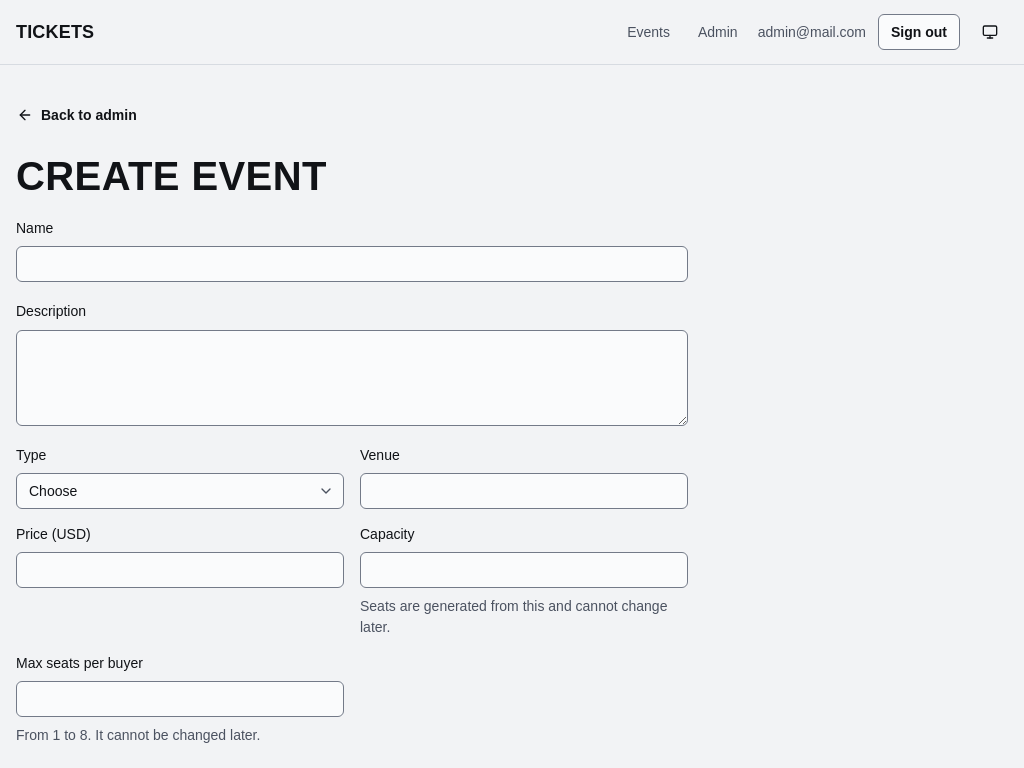
Test: CreateEventPage › shows an error next to each invalid field and sends nothing
This screenshot has width=1024, height=768.
Type "0" into the field labelled "Price (USD)".
click(180, 570); type("0")  # box [16,552,344,588]
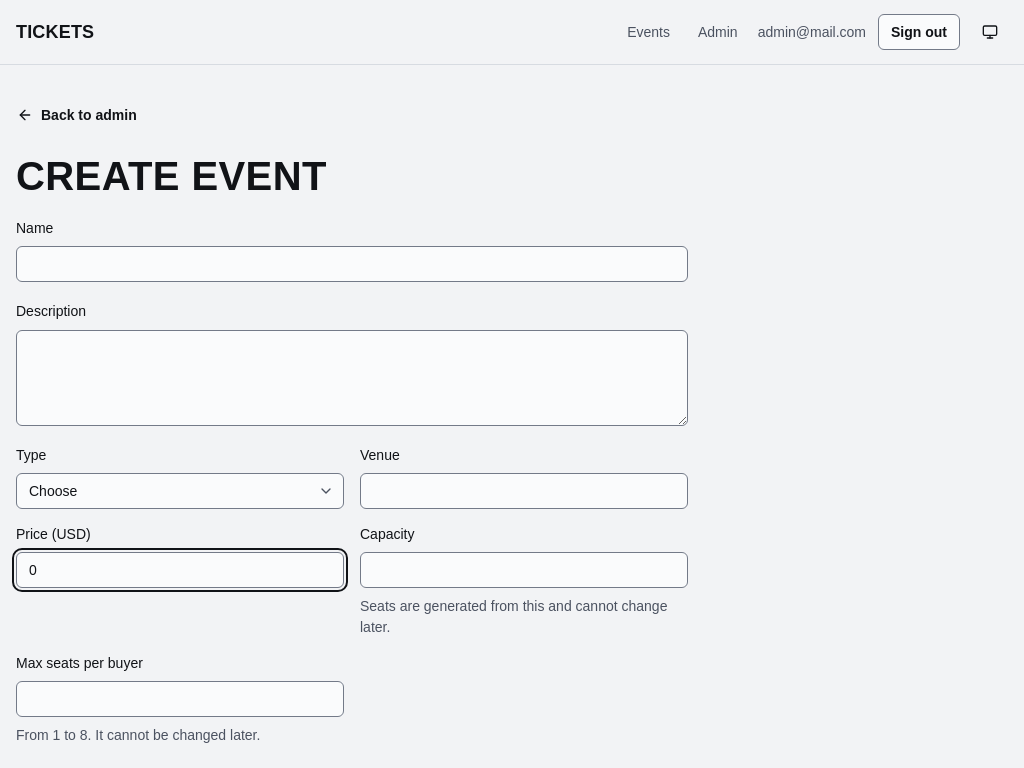
Type "300" into the field labelled "Capacity".
click(524, 570); type("300")  # box [360,552,688,588]
(page scrolled)
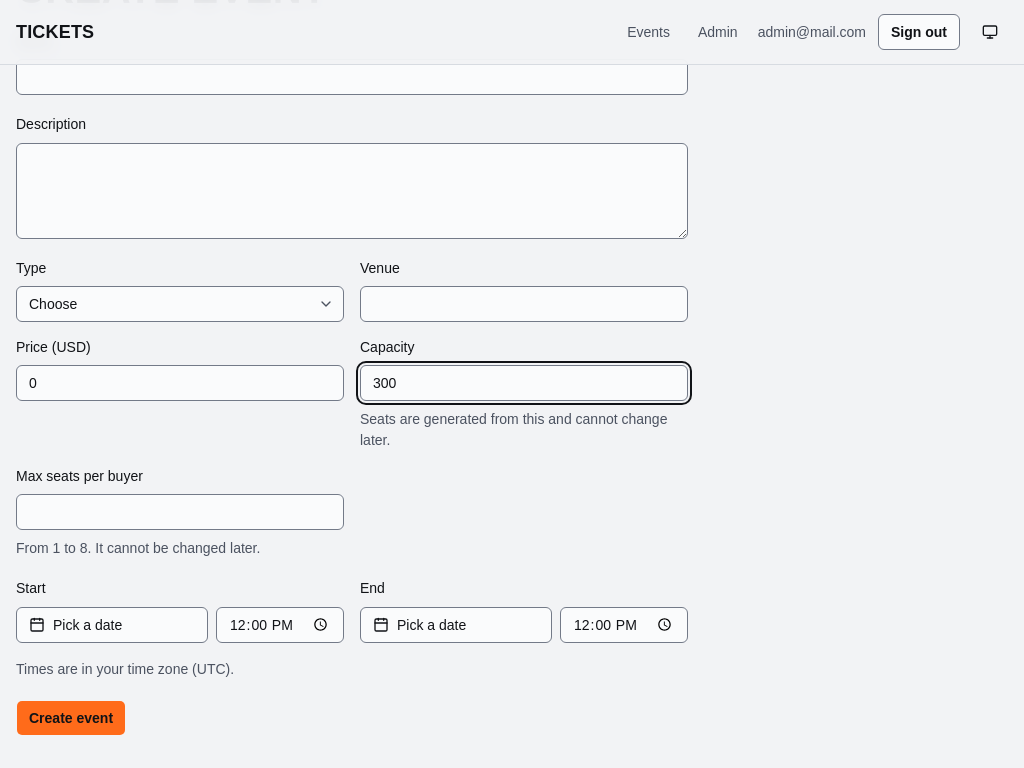
Click the button "Create event".
click(71, 718)  # box [16,700,126,736]
(page scrolled)
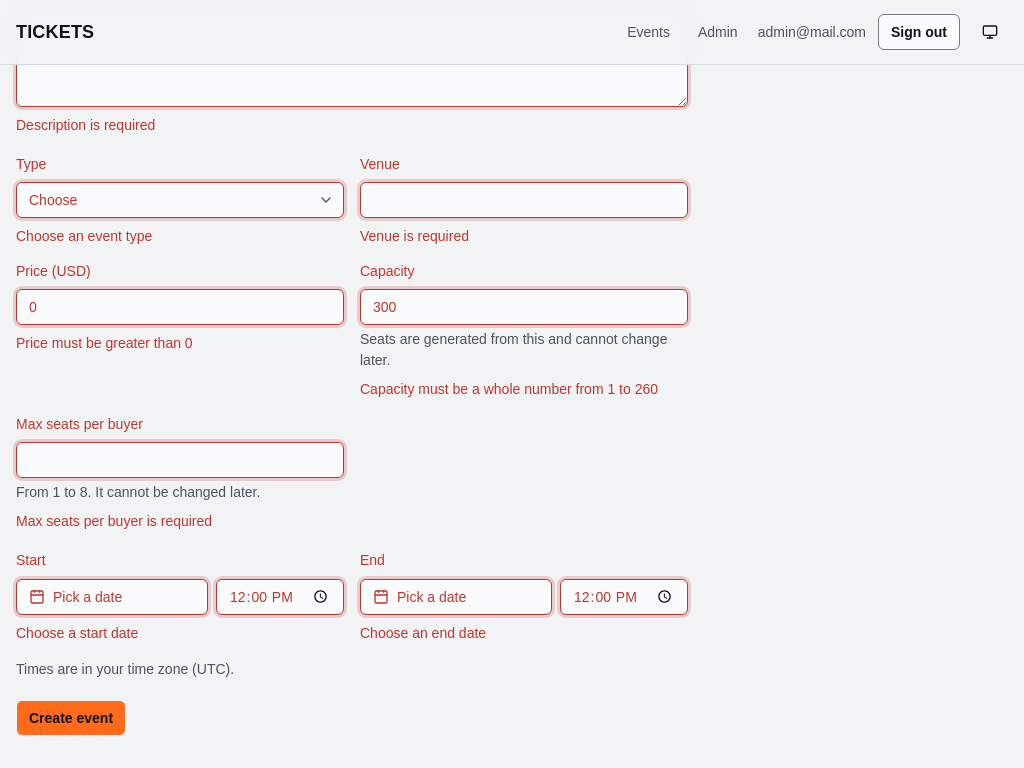
Result: the text "Description is required" is shown at [16,116,155,132]
Result: the text "Choose an event type" is shown at [16,228,152,244]
Result: the text "Venue is required" is shown at [360,228,469,244]
